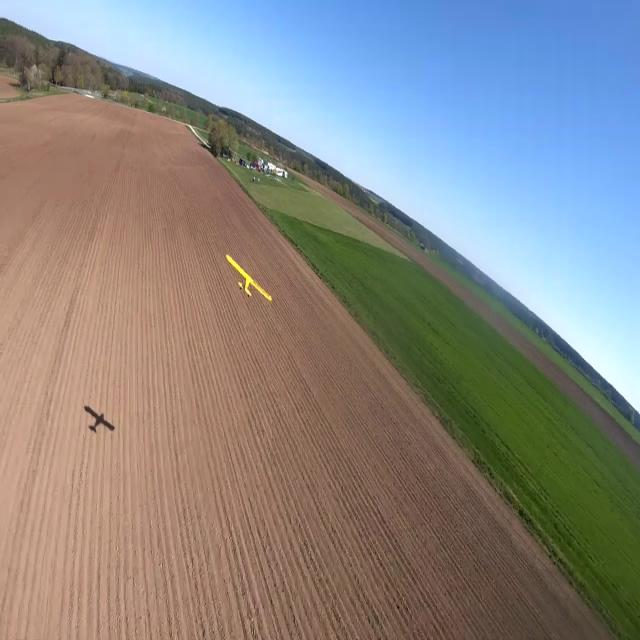iha: (225, 253, 273, 306)
